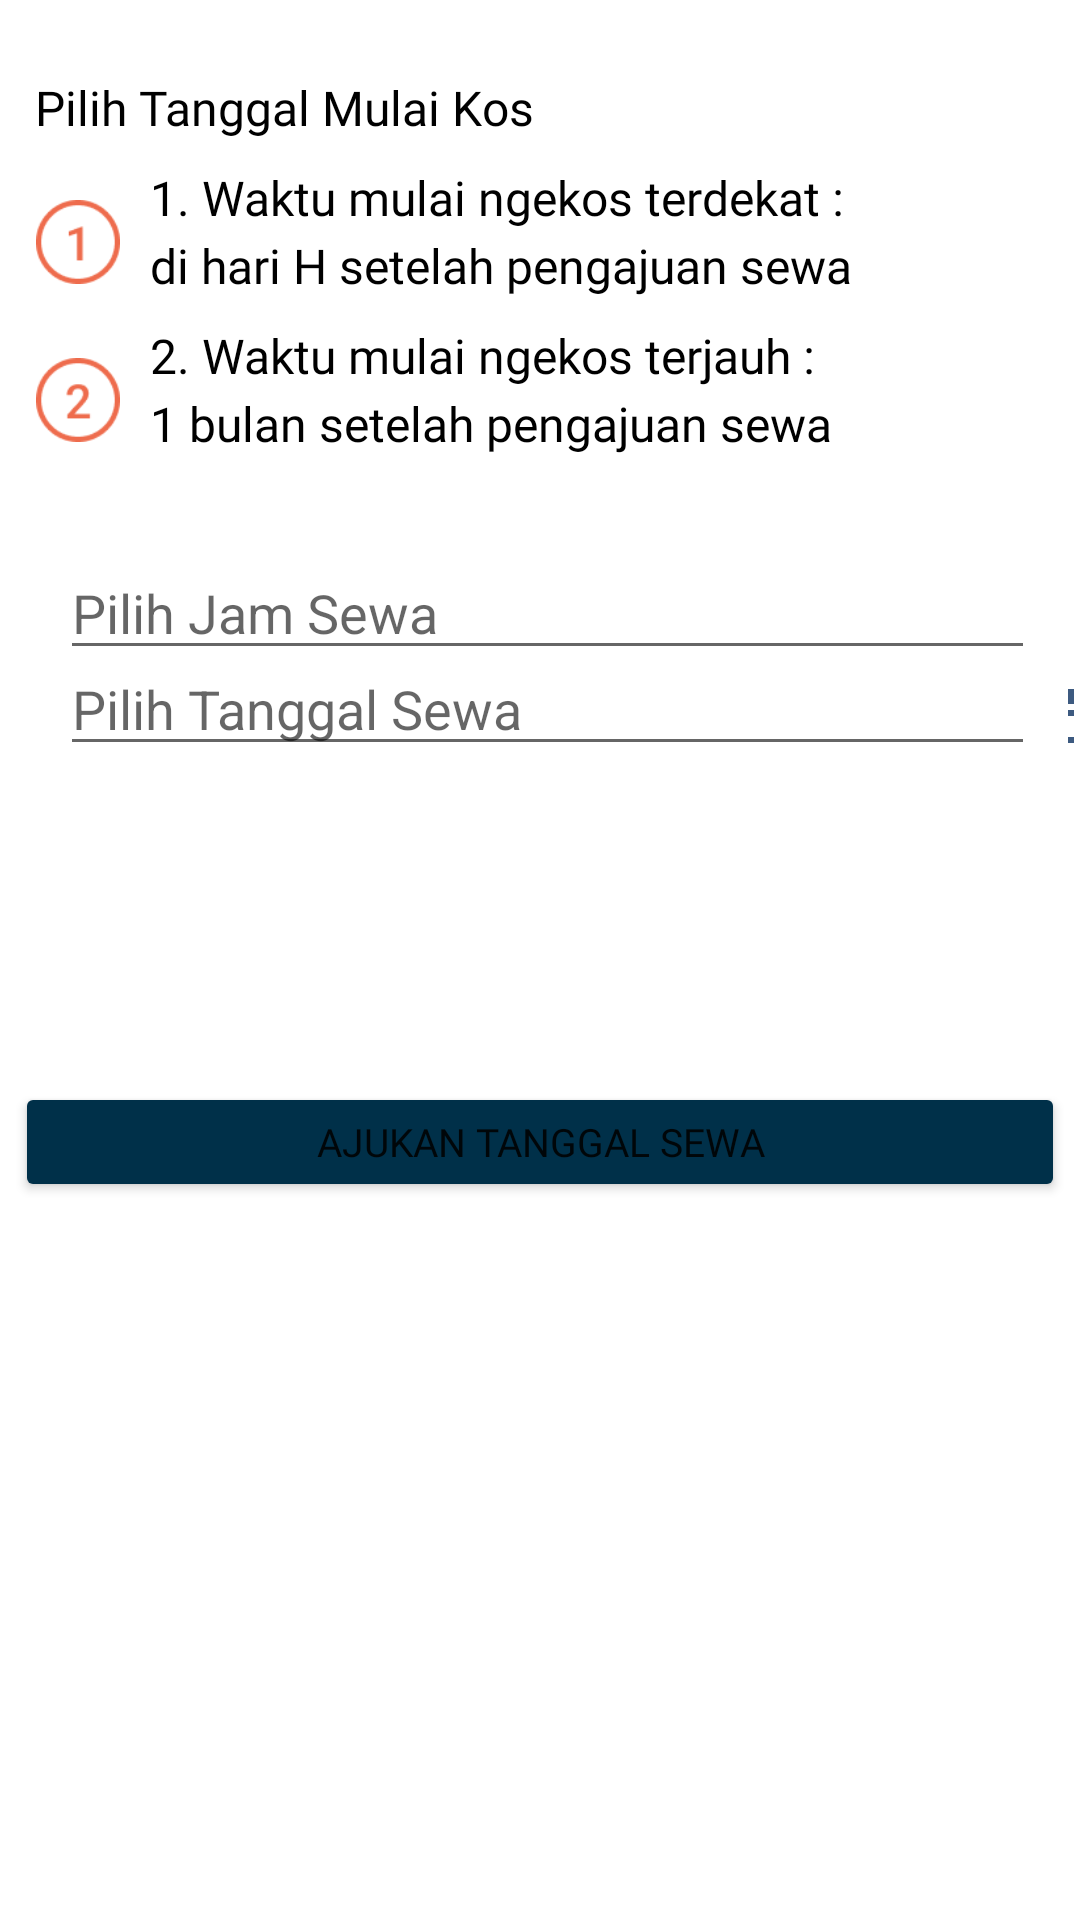

Icons on this 1080w x 1920h Android screen, each with its box as bbox(x1, y1, x2, y2):
nomor: bbox(36, 200, 120, 284), bbox(36, 358, 120, 442)
